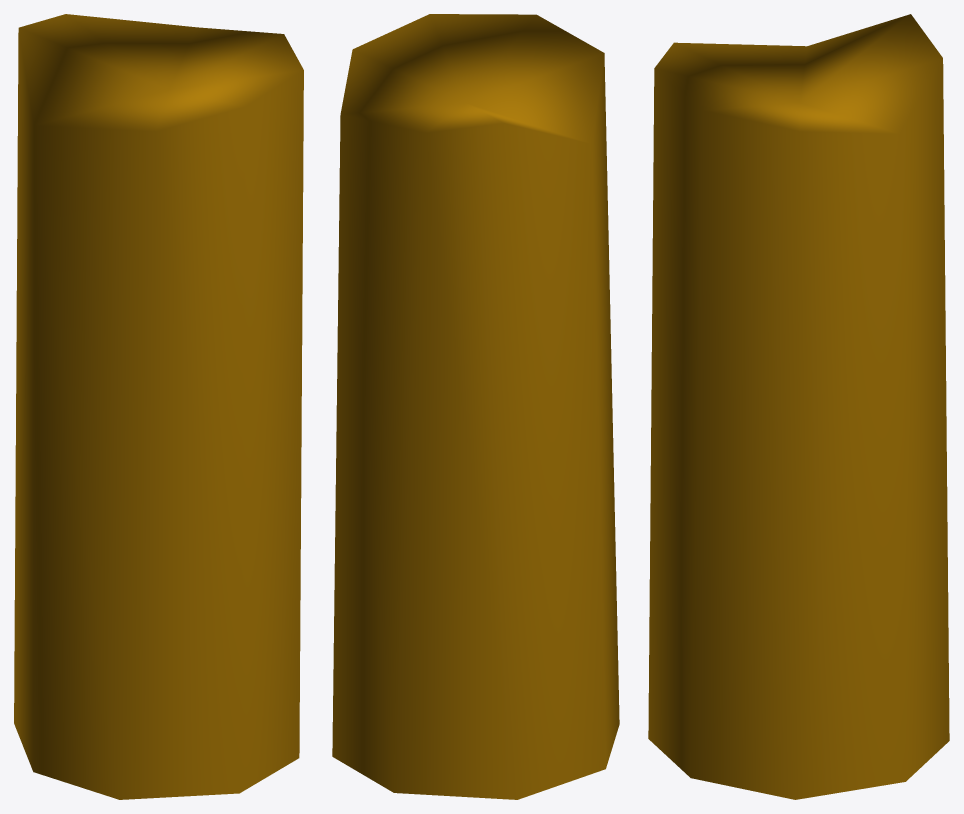
File: SM_Candle_1.fbx
The picture shows the model from 3 angles, left to right: view 1: azimuth 30°, elevation 25°; view 2: azimuth 150°, elevation 25°; view 3: azimuth 270°, elevation 25°; orthographic projection.
Visible parts, largest first — view 1: SM_Candle_1; view 2: SM_Candle_1; view 3: SM_Candle_1.
Boxes of the visible parts, x1,y1,x2,y2 form: SM_Candle_1: (14,14,303,799); SM_Candle_1: (332,14,619,799); SM_Candle_1: (648,14,949,799).
Bounding box in the file's own units: 0.729 × 1.85 × 0.7416.
